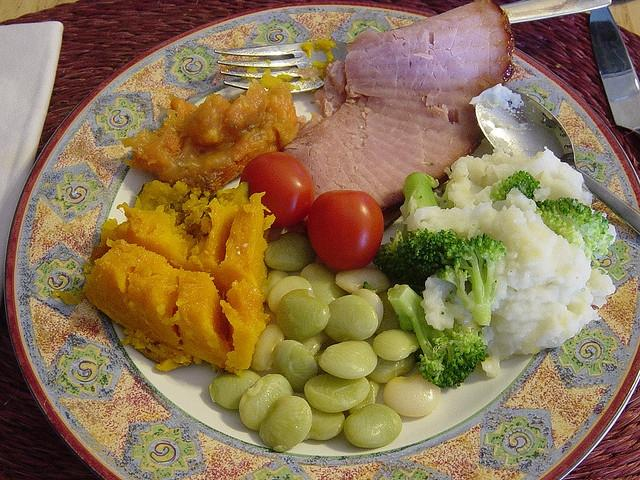broccoli: (388, 284, 488, 388), (373, 172, 457, 288), (438, 233, 507, 326), (534, 197, 614, 267), (490, 170, 540, 204)
potato: (82, 180, 276, 374), (116, 78, 298, 196)
tomato: (307, 190, 384, 270), (238, 150, 314, 226)
